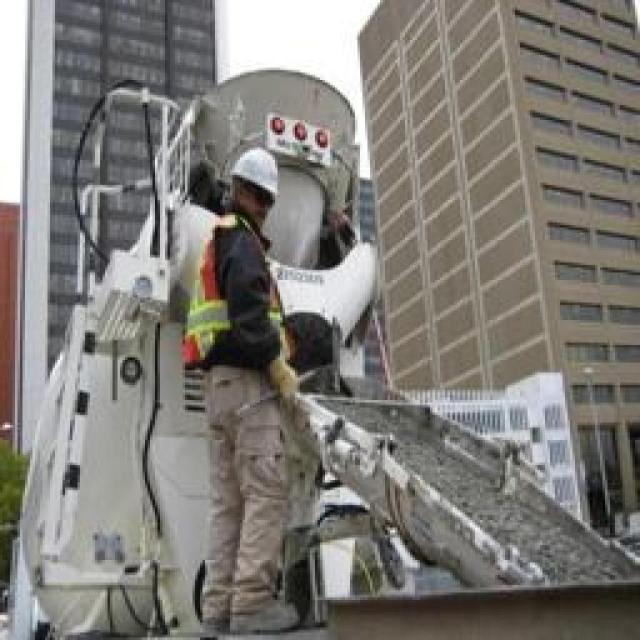Helmet: (224, 132, 298, 206)
Safety Vest: (171, 202, 295, 390)
